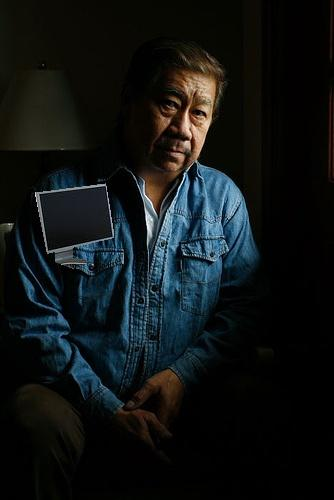tampered: (36, 184, 114, 269)
